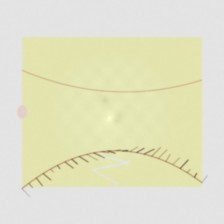foreign_body_visible: (120, 108, 162, 142)
